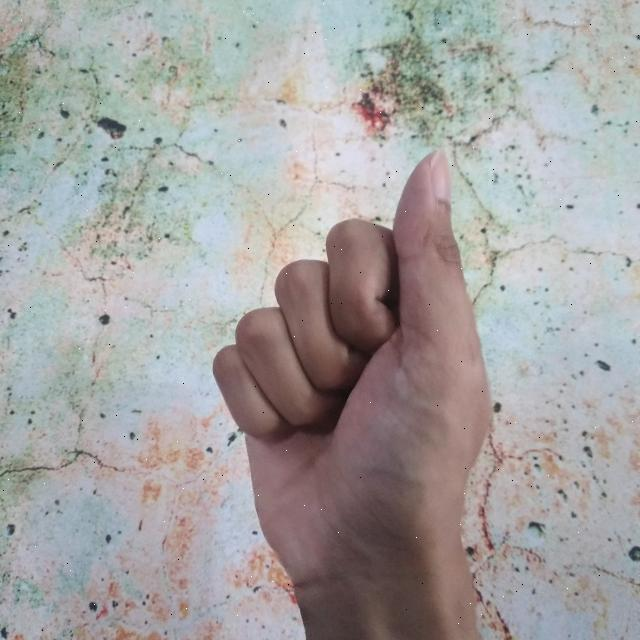A: (198, 139, 500, 640)
